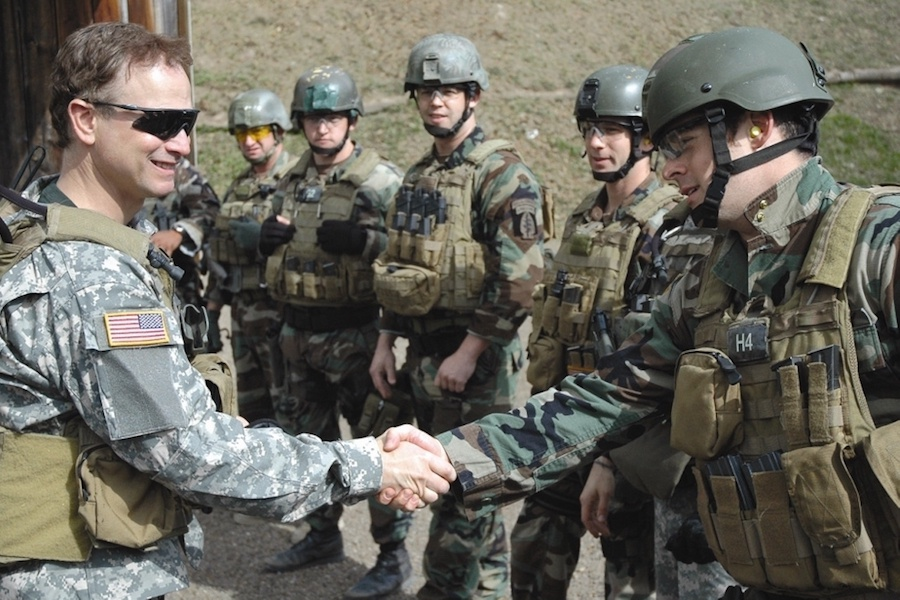bad: (405, 66, 467, 129), (570, 108, 633, 170)
